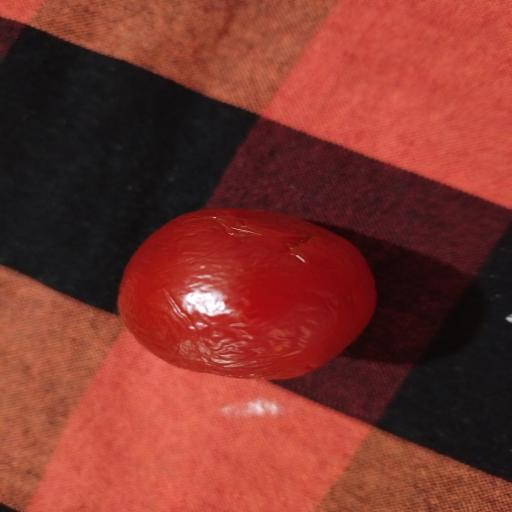spoiled: (118, 209, 376, 379)
